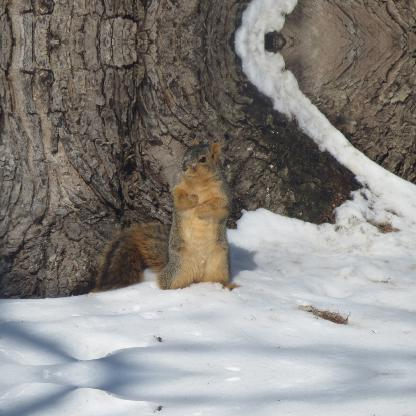Squirrel: (90, 139, 242, 292)
